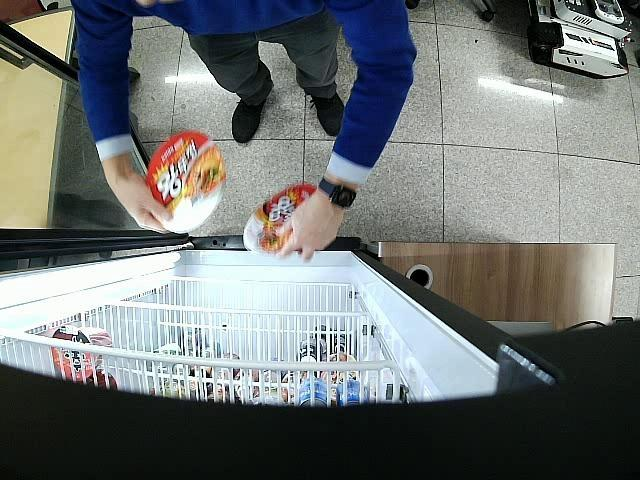10_wangTtukkeong: (147, 130, 226, 234), (244, 182, 318, 254)
